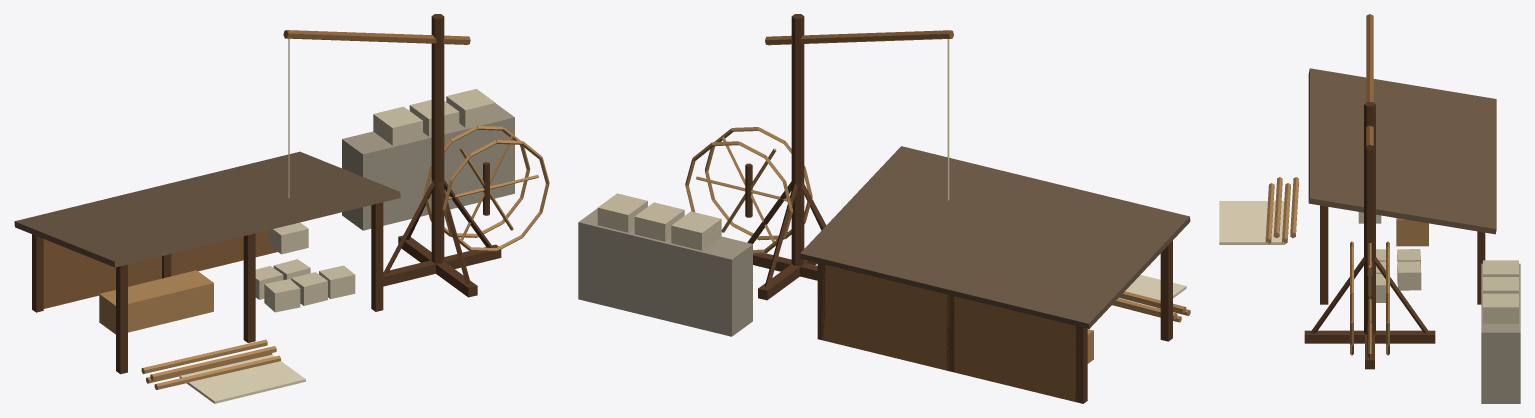
Rendered from building_workshop.glb.
The picture shows the model from 3 angles, left to right: view 1: azimuth 30°, elevation 25°; view 2: azimuth 150°, elevation 25°; view 3: azimuth 270°, elevation 25°; orthographic projection. The views are drawn at different scales.
Parts seen in each view (by area): view 1: building_workshop; view 2: building_workshop; view 3: building_workshop.
Part boxes in pixels (bbox=[...]): building_workshop: bbox=[14, 14, 549, 403]; building_workshop: bbox=[578, 14, 1190, 403]; building_workshop: bbox=[1219, 14, 1520, 403].
Bounding box in the file's own units: 16.2 × 8.73 × 9.2.
